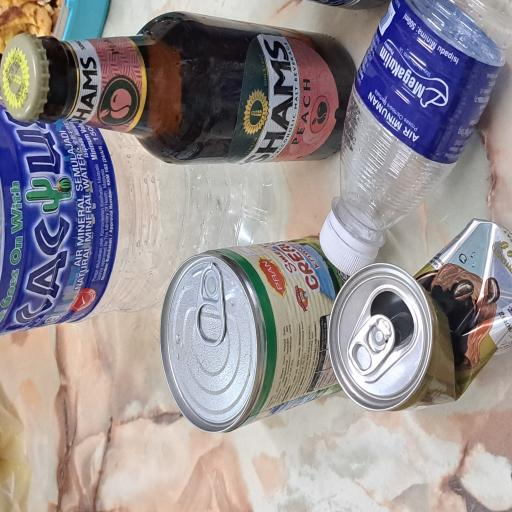can: (58, 213, 209, 467), (73, 435, 219, 512)
glass bottle: (258, 0, 374, 474)
plastic bottle: (131, 0, 303, 377), (211, 450, 384, 512)
plastic bottle cap: (175, 424, 224, 506)
pop tab: (100, 462, 148, 512), (128, 262, 187, 299)
